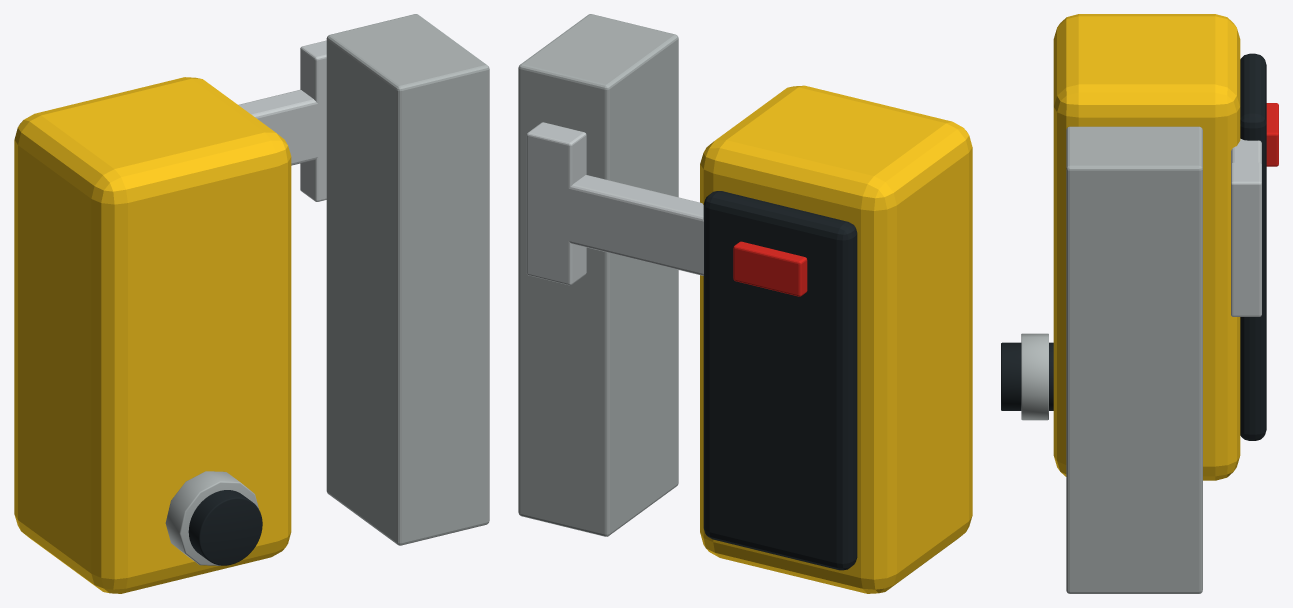
File: tongue_safety_interlock.glb
3 renders of one model, left to right at view 1: azimuth 30°, elevation 25°; view 2: azimuth 150°, elevation 25°; view 3: azimuth 270°, elevation 25°, orthographic. The views are drawn at different scales.
Visible parts, largest first — view 1: SWITCH_body, GUARD_edge, M12_body, ACTUATOR_tongue, ACTUATOR_fork, M12_nut; view 2: SWITCH_body, GUARD_edge, SWITCH_face, ACTUATOR_tongue, ACTUATOR_fork, KEY_slot; view 3: GUARD_edge, SWITCH_body, SWITCH_face, ACTUATOR_fork, M12_nut, M12_body, KEY_slot, ACTUATOR_tongue.
Part boxes in pixels (bbox=[...]): SWITCH_body: bbox=[14, 77, 291, 593]; GUARD_edge: bbox=[326, 14, 489, 545]; M12_body: bbox=[188, 490, 262, 565]; ACTUATOR_tongue: bbox=[238, 89, 326, 165]; ACTUATOR_fork: bbox=[300, 40, 326, 201]; M12_nut: bbox=[165, 471, 259, 565]; SWITCH_body: bbox=[700, 85, 972, 593]; GUARD_edge: bbox=[518, 14, 678, 536]; SWITCH_face: bbox=[703, 191, 857, 570]; ACTUATOR_tongue: bbox=[534, 175, 703, 275]; ACTUATOR_fork: bbox=[526, 122, 586, 285]; KEY_slot: bbox=[733, 241, 807, 296]; GUARD_edge: bbox=[1066, 126, 1202, 593]; SWITCH_body: bbox=[1053, 14, 1240, 480]; SWITCH_face: bbox=[1240, 53, 1266, 440]; ACTUATOR_fork: bbox=[1231, 162, 1261, 316]; M12_nut: bbox=[1021, 333, 1048, 420]; M12_body: bbox=[1001, 342, 1053, 410]; KEY_slot: bbox=[1266, 103, 1278, 166]; ACTUATOR_tongue: bbox=[1231, 138, 1261, 164].
Bounding box in the file's own units: 0.68 × 0.76 × 0.4475.
